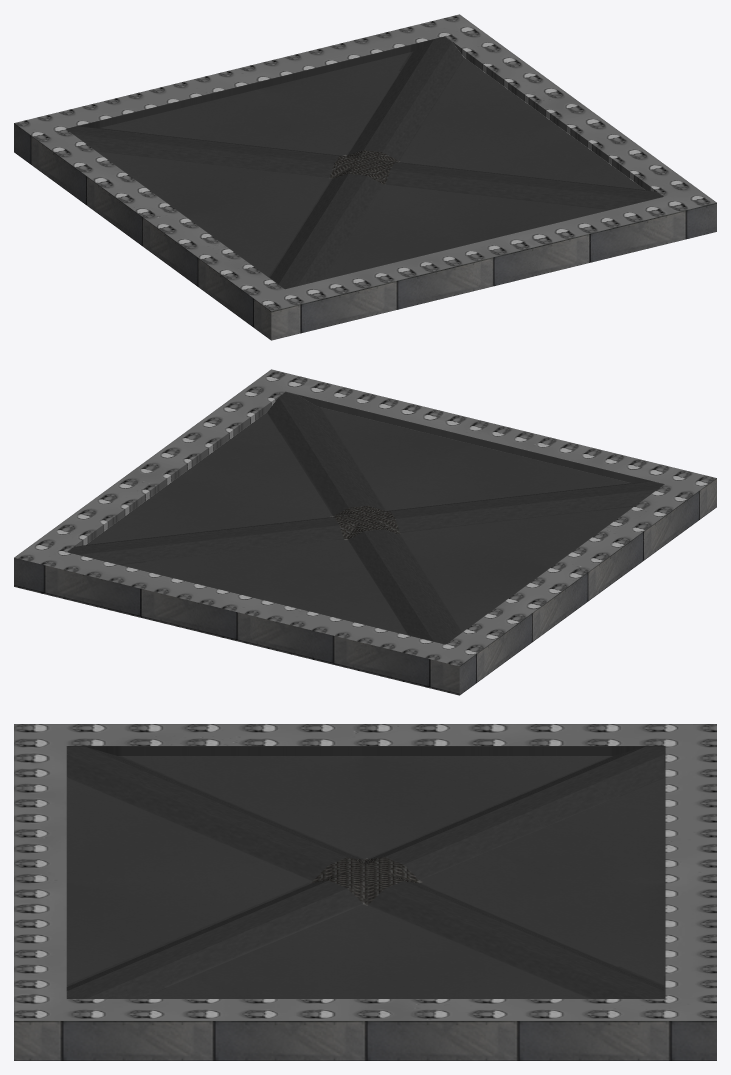
Rendered from UMOD_Prop-Square-1x1_.fbx.
The picture shows the model from 3 angles, top to bottom: view 1: azimuth 30°, elevation 25°; view 2: azimuth 150°, elevation 25°; view 3: azimuth 270°, elevation 25°; orthographic projection. The views are drawn at different scales.
Visible parts, largest first — view 1: pCube6; view 2: pCube6; view 3: pCube6.
Part boxes in pixels (<box>): pCube6: <box>14,14,716,340</box>; pCube6: <box>14,369,716,695</box>; pCube6: <box>14,724,716,1060</box>.
Bounding box in the file's own units: 8 × 0.5 × 8.
Materials: 1 (1 with a texture image).
